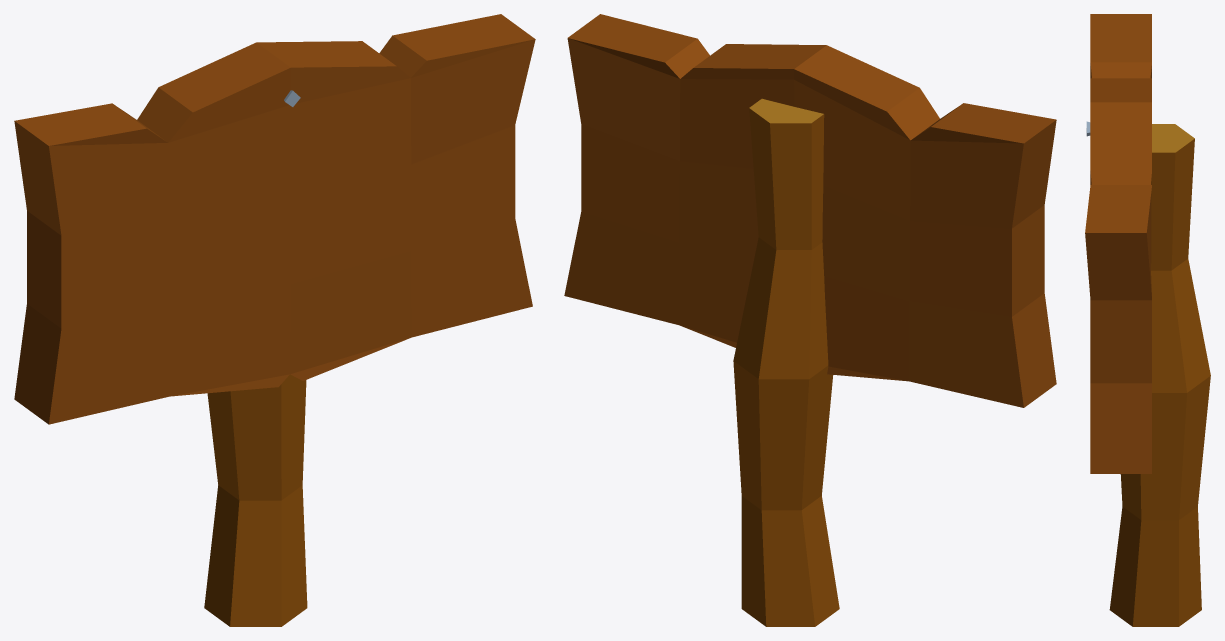
The model's file is sign_2.fbx.
3 renders of one model, left to right at view 1: azimuth 30°, elevation 25°; view 2: azimuth 150°, elevation 25°; view 3: azimuth 270°, elevation 25°, orthographic. The views are drawn at different scales.
Visible parts, largest first — view 1: sign_2; view 2: sign_2; view 3: sign_2.
Boxes of the visible parts, x1=… form: sign_2: x1=14, y1=14, x2=535, y2=626; sign_2: x1=564, y1=14, x2=1056, y2=626; sign_2: x1=1085, y1=14, x2=1210, y2=626.
Size of the model in its own units: 295 by 330 by 74.29.
